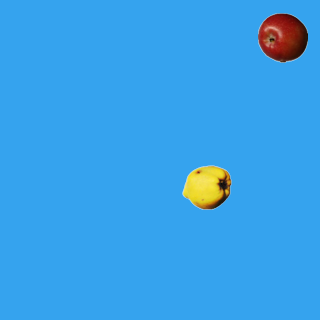Apple Braeburn: (257, 12, 307, 62)
Quince: (181, 162, 231, 212)
